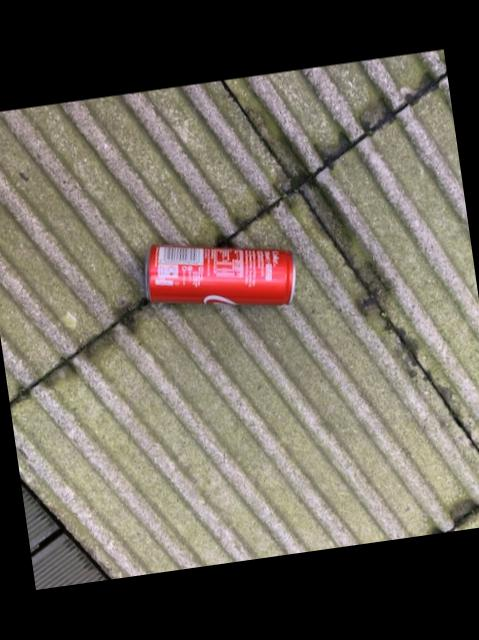metal: (143, 247, 292, 307)
